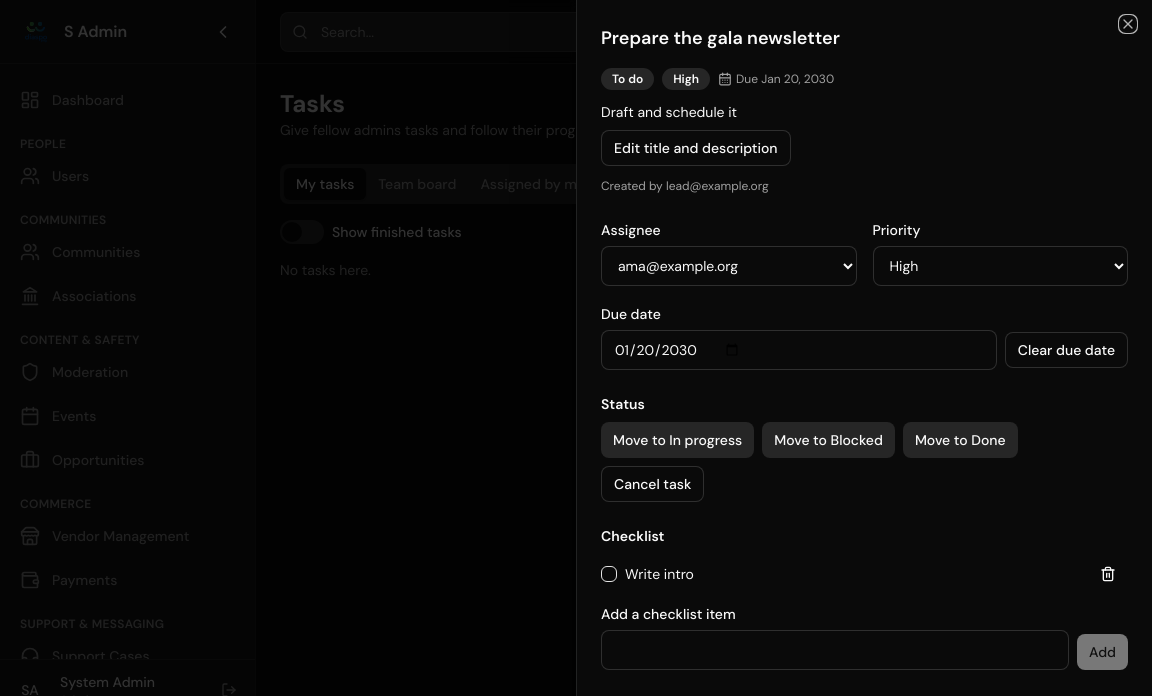
Test: Tasks — drawer opened by ?task= › maps a refused mutation's error code to a friendly message and never shows a success toast
Click the button "Move to Done": click(960, 440) [903,422,1018,458]
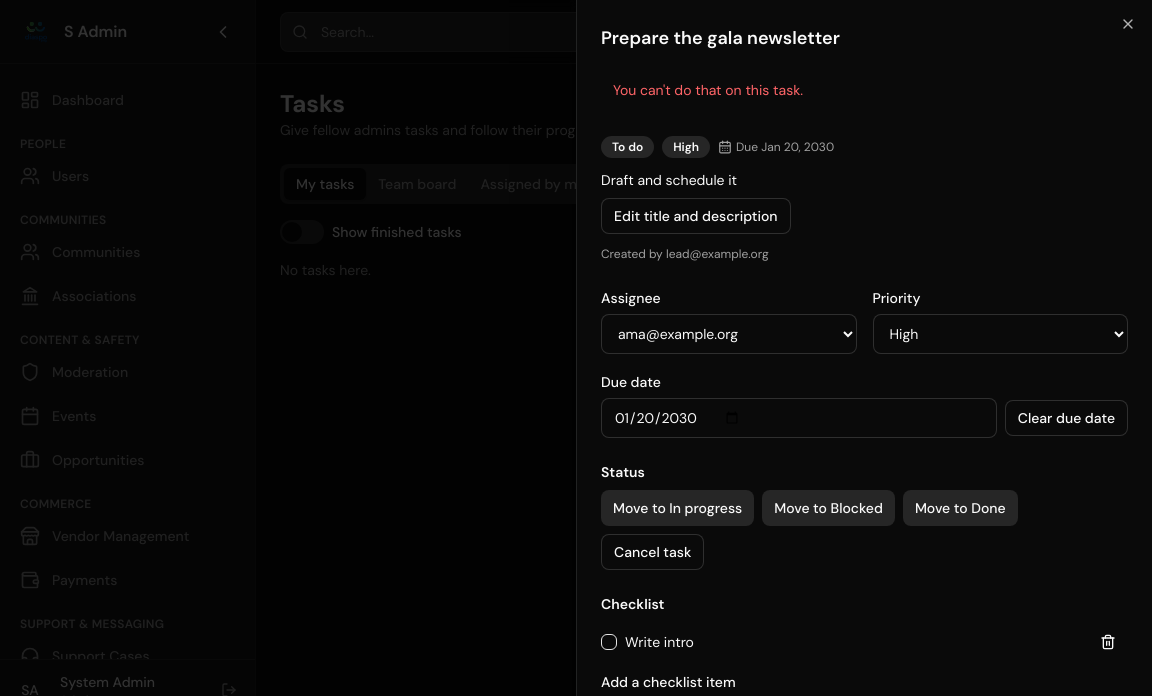
Expected: the button "Move to In progress" is shown, [601,490,754,526]
Expected: the message shows "You can't do that on this task", [613,81,803,99]
